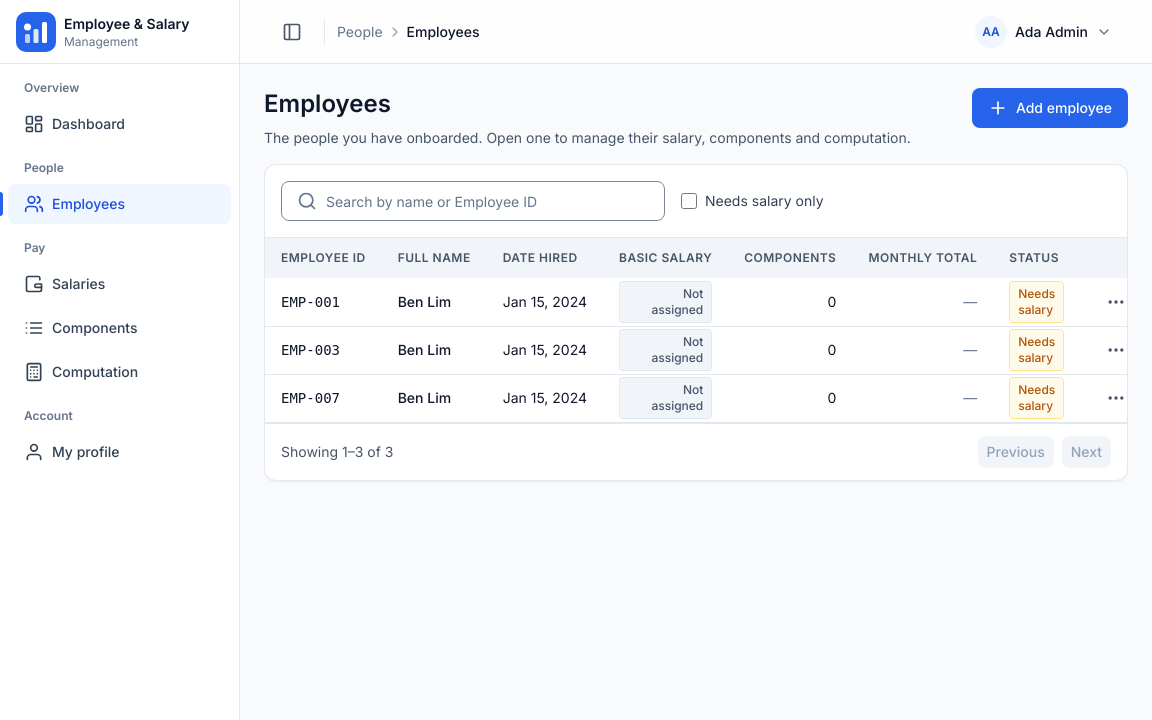
it: Employee ID field › the suggested next ID › is the highest EMP-number plus one, padded to 3 digits, and starts in the field
This screenshot has width=1152, height=720.
Check: the text "EMP-007" is shown, box [281, 390, 340, 406]
Step 1. Click the button "Add employee" → click(1050, 108), box [972, 88, 1128, 128]
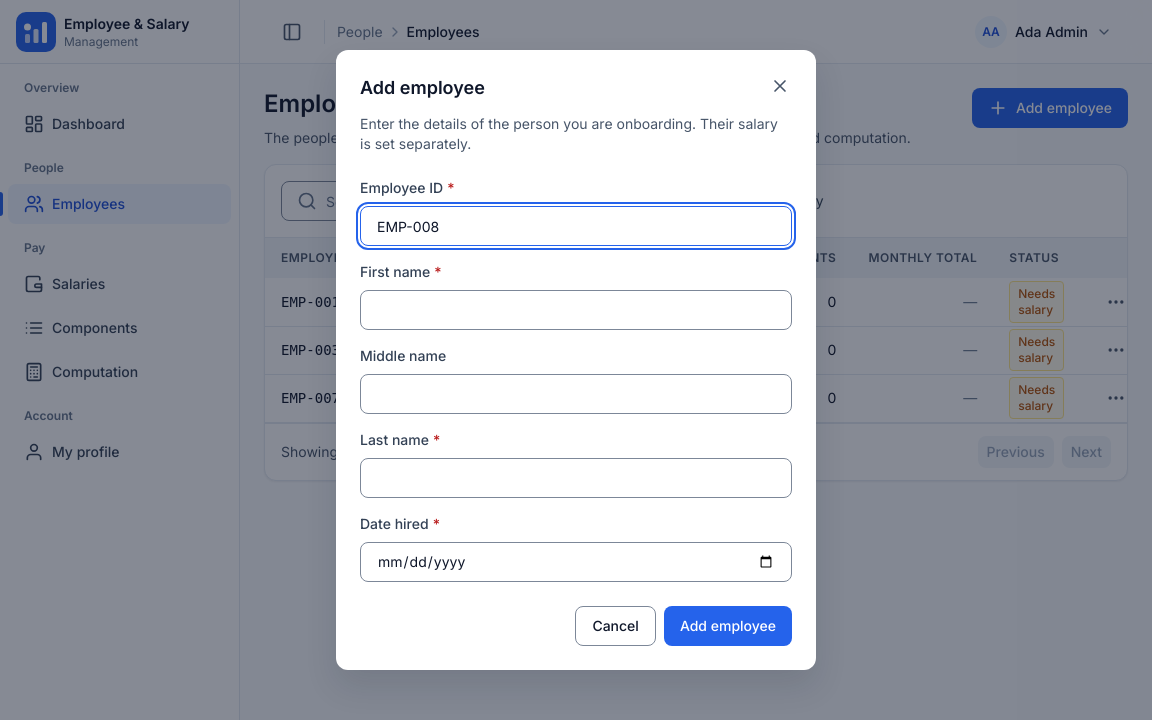
Check: the field labelled "Employee ID*" holds "EMP-008", box [360, 206, 792, 246]
